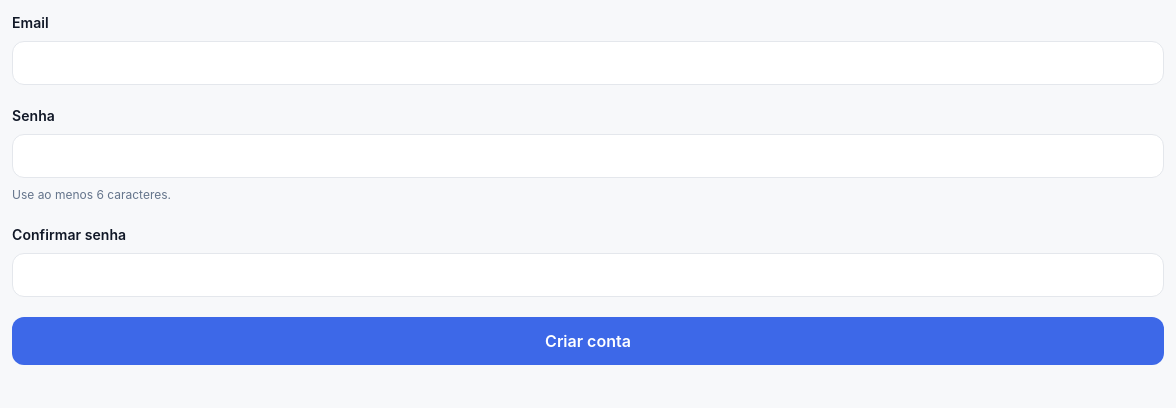
Test: SignUpForm › announces client validation without submitting an invalid password confirmation
This screenshot has width=1176, height=408.
Type "willy@example.com" into the field labelled "Email" at (588, 63), box [12, 41, 1164, 85]
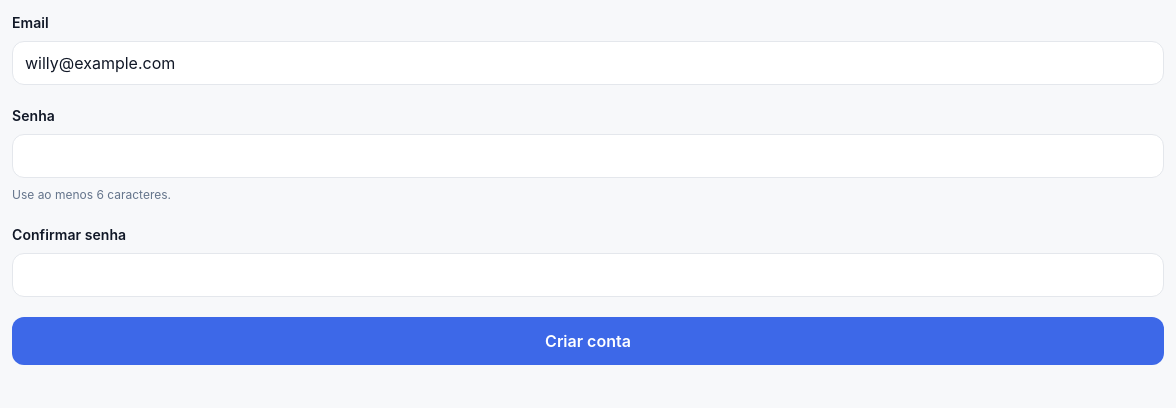
Type "very-secure-password" into the password field labelled "Senha" at (588, 156), box [12, 134, 1164, 178]
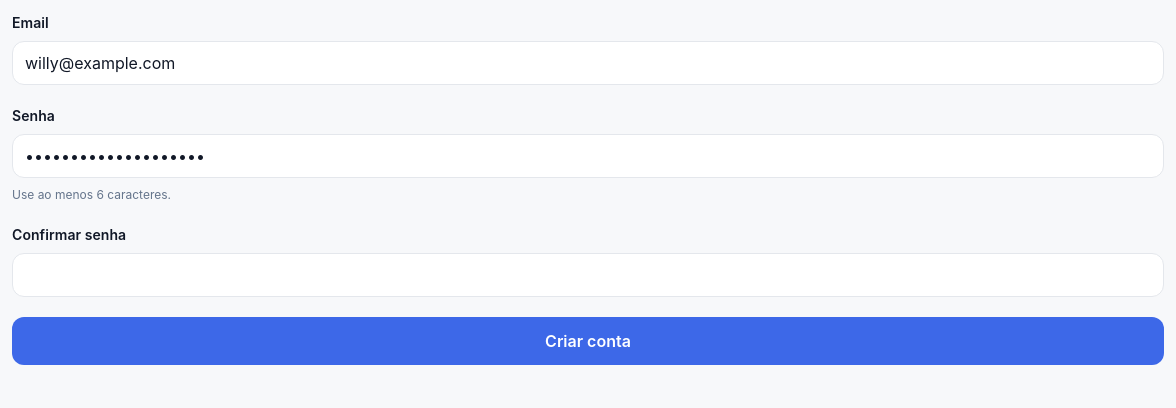
Type "different-password" into the password field labelled "Confirmar senha" at (588, 275), box [12, 253, 1164, 297]
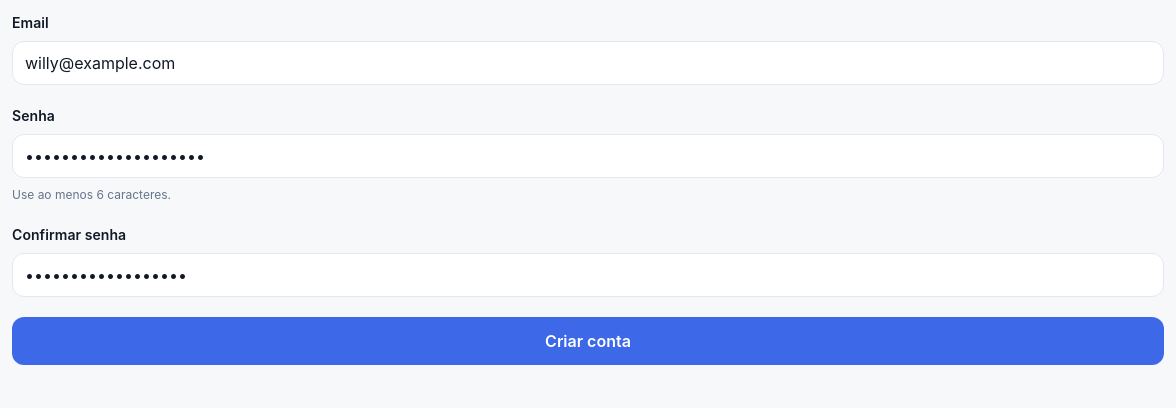
Click the button "Criar conta" at (588, 341), box [12, 317, 1164, 365]
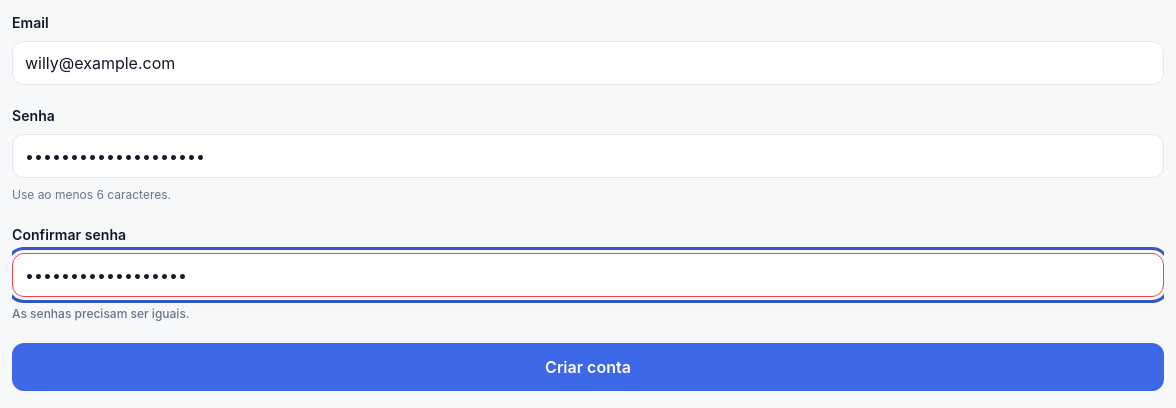
Expected: the message reads "As senhas precisam ser iguais.", [12, 306, 190, 321]
